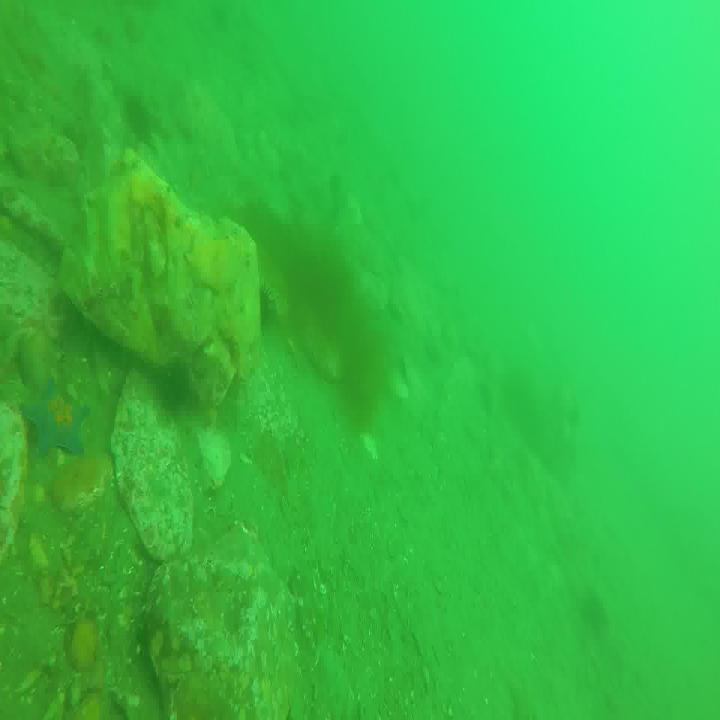echinus: (161, 359, 196, 416), (250, 289, 272, 329)
starfish: (22, 380, 90, 460)
